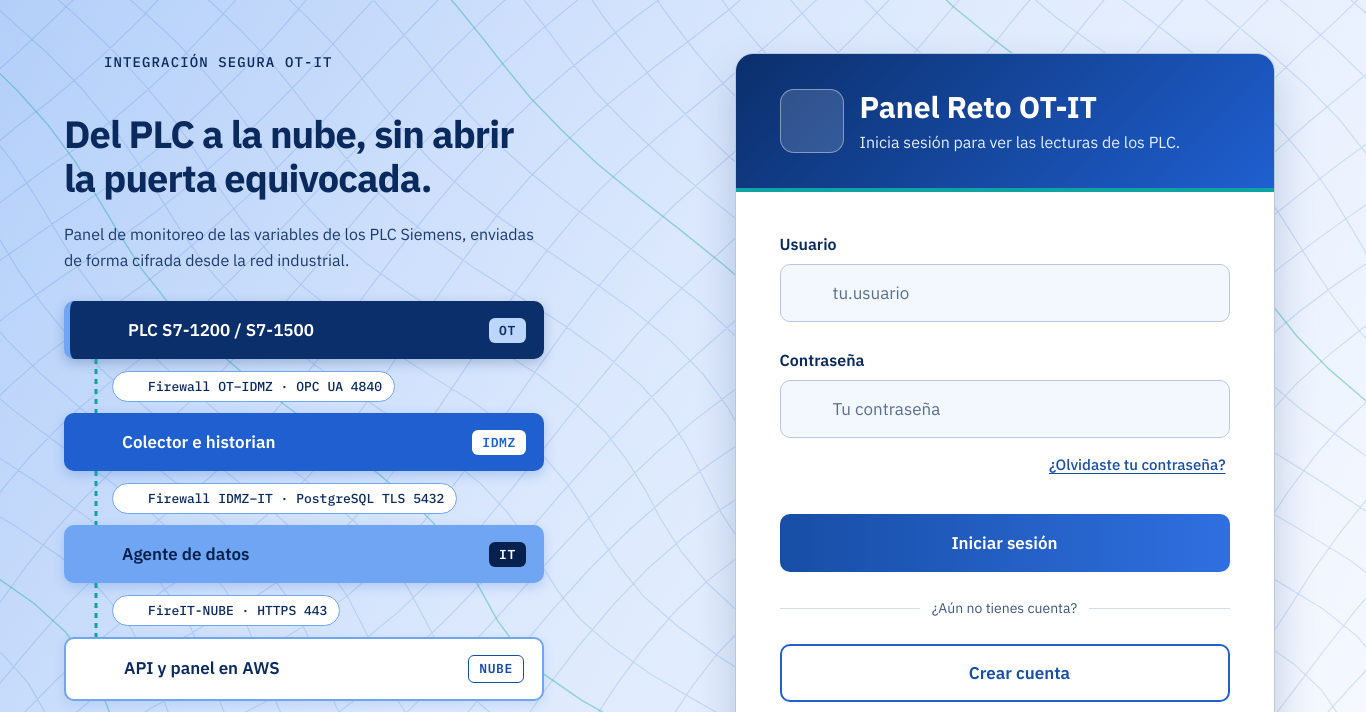
Test: PaginaLogin › envia los datos y avisa cuando son incorrectos
Type "eduardo" into the field labelled "Usuario" at (1004, 293), box [780,264,1230,322]
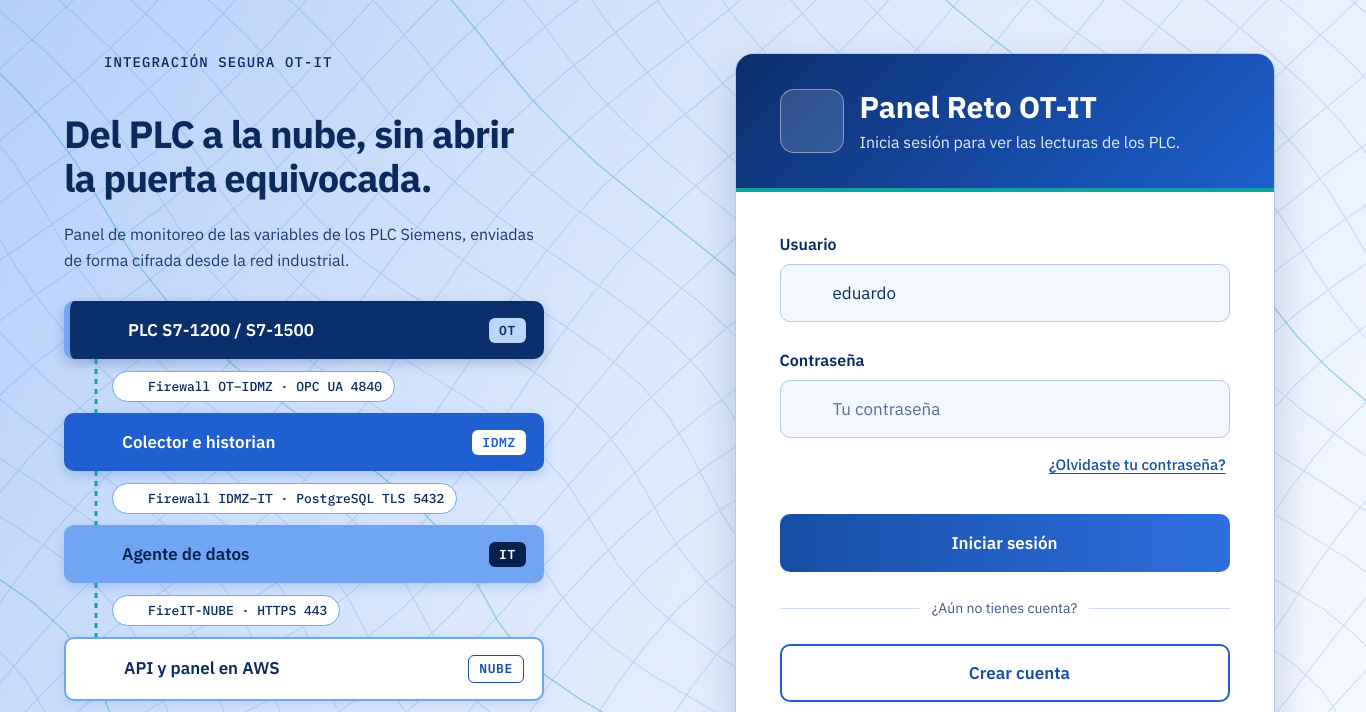
Type "clave-incorrecta" into the password field labelled "Contraseña" at (1004, 409), box [780,380,1230,438]
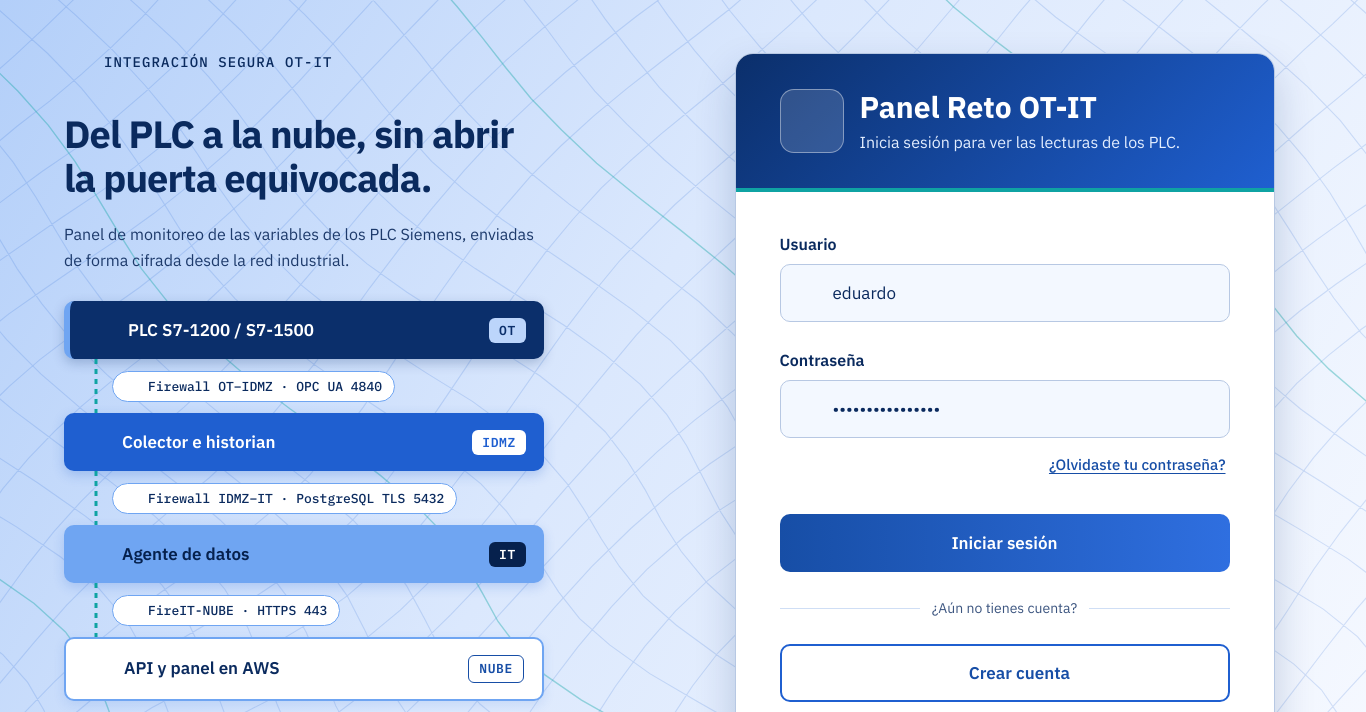
Click the button "Iniciar sesión" at (1004, 543), box [780,514,1230,572]
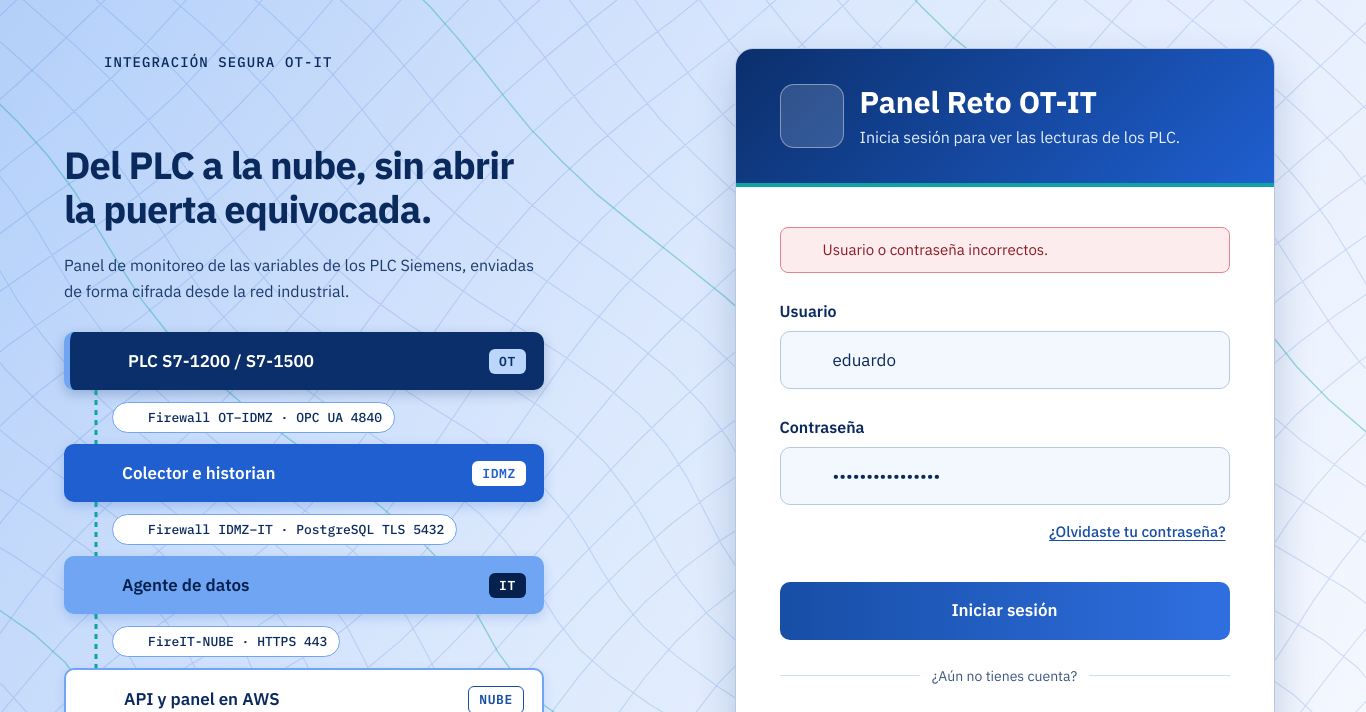
Expected: the message reads "Usuario o contraseña incorrectos.", [822,240,1048,258]
